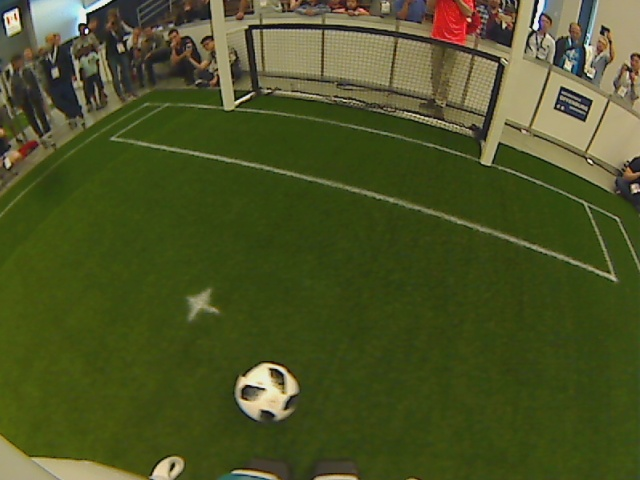ball: (232, 360, 301, 425)
